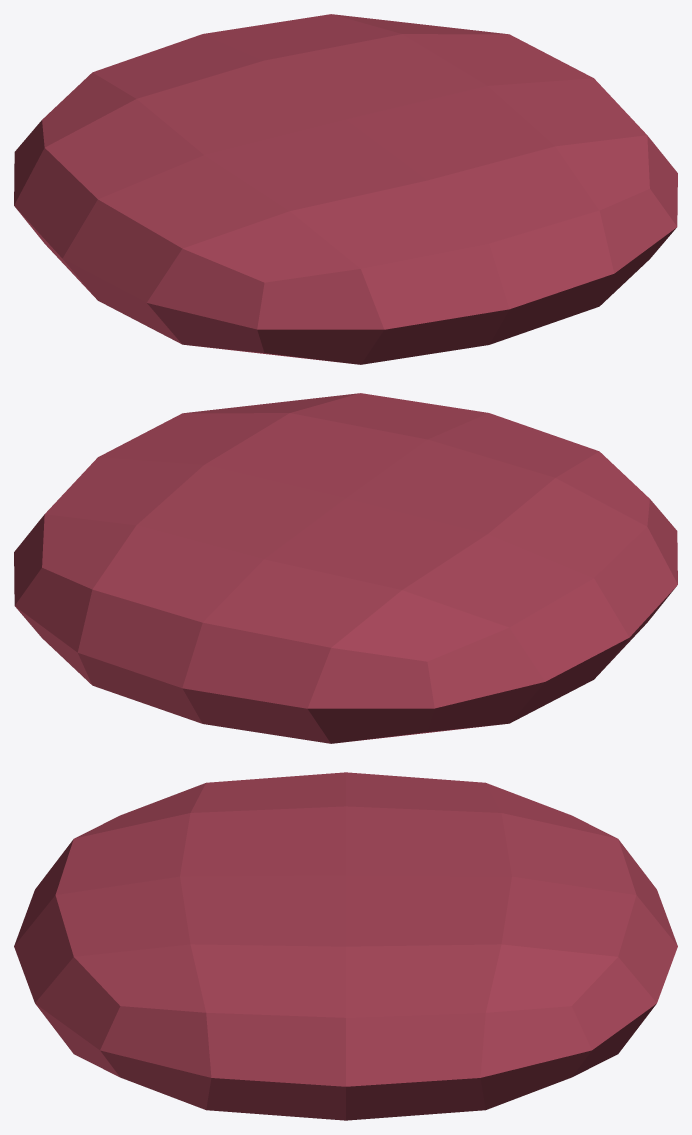
The model's file is burgerpatty-raw-79163bcda9.glb.
3 renders of one model, top to bottom at view 1: azimuth 30°, elevation 25°; view 2: azimuth 150°, elevation 25°; view 3: azimuth 270°, elevation 25°, orthographic.
Visible parts, largest first — view 1: BurgerPatty_Raw.obj; view 2: BurgerPatty_Raw.obj; view 3: BurgerPatty_Raw.obj.
Part boxes in pixels (x1=…): BurgerPatty_Raw.obj: x1=14, y1=14, x2=677, y2=364; BurgerPatty_Raw.obj: x1=14, y1=393, x2=677, y2=743; BurgerPatty_Raw.obj: x1=14, y1=772, x2=677, y2=1120.
Size of the model in its own units: 1.43 by 0.3364 by 1.43.
